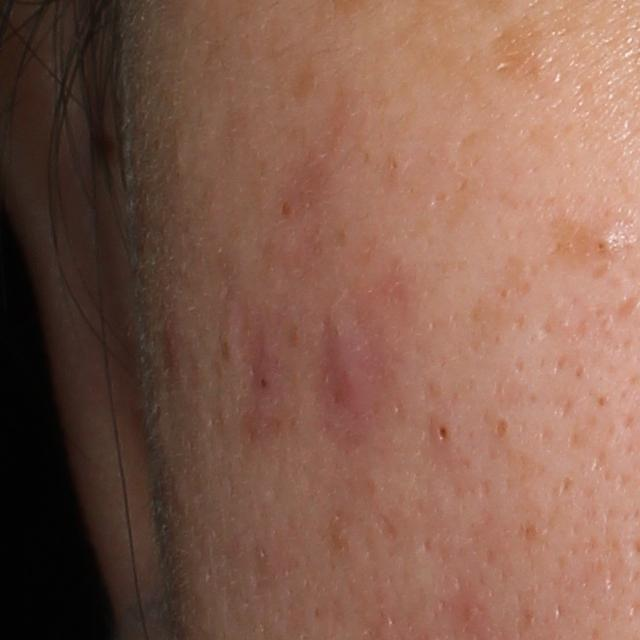atrophic_scar: (369, 511, 398, 549)
comedo: (594, 230, 623, 258), (493, 413, 511, 444), (433, 422, 454, 447)
melasma: (482, 14, 553, 93), (548, 217, 620, 280), (284, 58, 327, 110)
papule: (324, 355, 372, 415)
